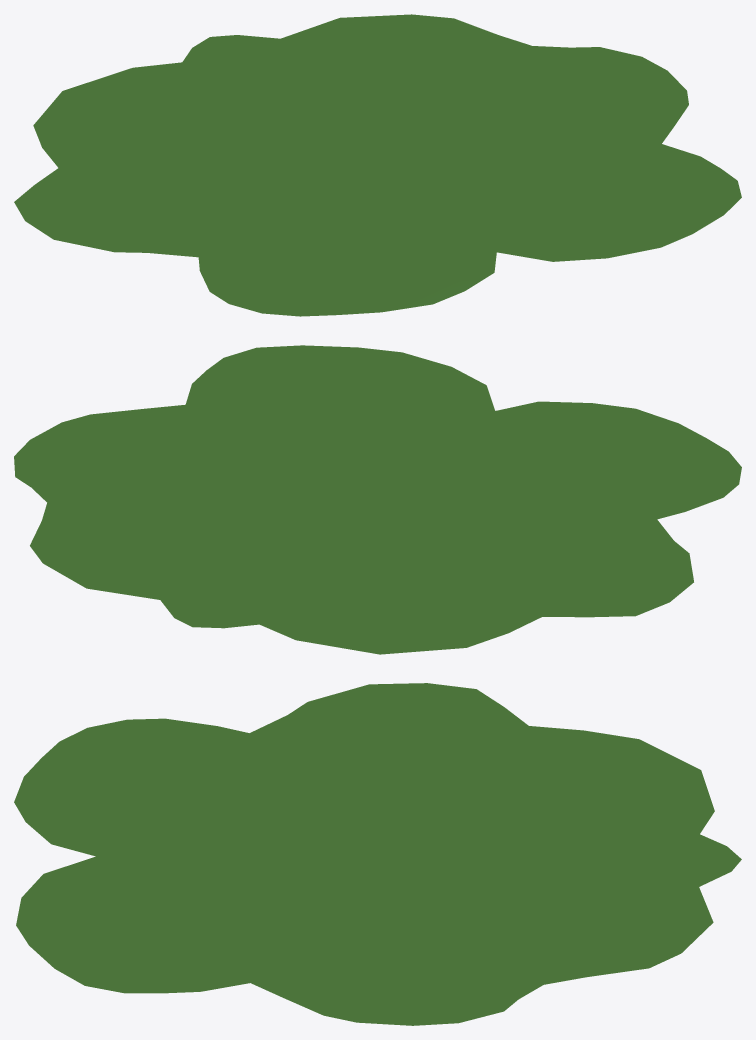
File: plant_water_lily_pad_C.fbx
3 views of the same model, one above another, from view 1: azimuth 30°, elevation 25°; view 2: azimuth 150°, elevation 25°; view 3: azimuth 270°, elevation 25° (orthographic). The views are drawn at different scales.
Visible parts, largest first — view 1: plant_water_lily_pad_C; view 2: plant_water_lily_pad_C; view 3: plant_water_lily_pad_C.
Boxes of the visible parts, bbox=[...] form: plant_water_lily_pad_C: bbox=[14, 14, 741, 316]; plant_water_lily_pad_C: bbox=[14, 345, 741, 654]; plant_water_lily_pad_C: bbox=[14, 683, 741, 1025].
Size of the model in its own units: 19.92 by 0.00724 by 17.88.
